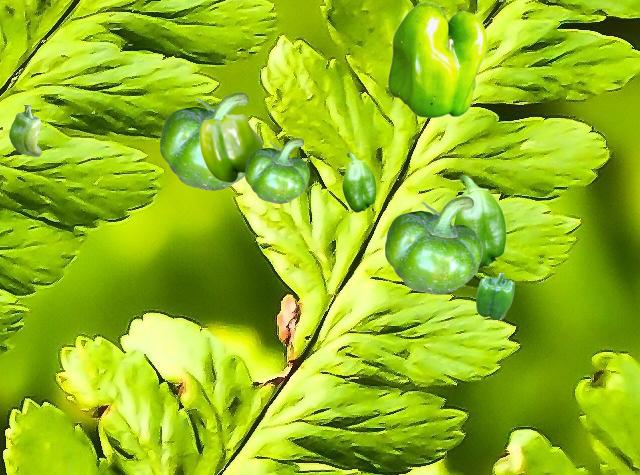bell_pepper: (387, 1, 486, 117), (385, 196, 481, 293), (160, 92, 249, 189), (453, 175, 505, 268), (199, 113, 262, 182), (245, 138, 308, 202), (342, 152, 375, 211), (476, 273, 513, 318), (9, 105, 40, 155)
